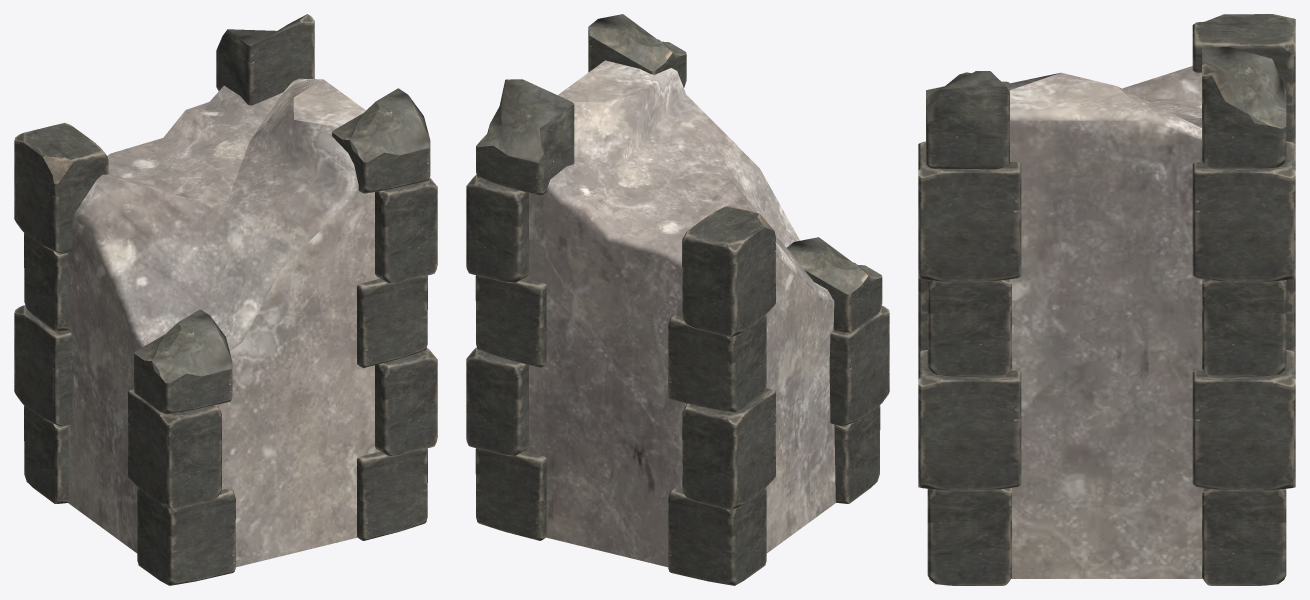
3 views of the same model, side by side, from view 1: azimuth 30°, elevation 25°; view 2: azimuth 150°, elevation 25°; view 3: azimuth 270°, elevation 25° (orthographic). The views are drawn at different scales.
Parts seen in each view (by area): view 1: SM_Human_Ruins_Column_Dmg_02_LOD0; view 2: SM_Human_Ruins_Column_Dmg_02_LOD0; view 3: SM_Human_Ruins_Column_Dmg_02_LOD0.
Part boxes in pixels (left/top/right/bottom): SM_Human_Ruins_Column_Dmg_02_LOD0: left=14, top=14, right=437, bottom=585; SM_Human_Ruins_Column_Dmg_02_LOD0: left=466, top=14, right=889, bottom=585; SM_Human_Ruins_Column_Dmg_02_LOD0: left=918, top=14, right=1295, bottom=585.
Bounding box in the file's own units: 0.7335 × 1.11 × 0.7347.
2 materials, 2 textured.
